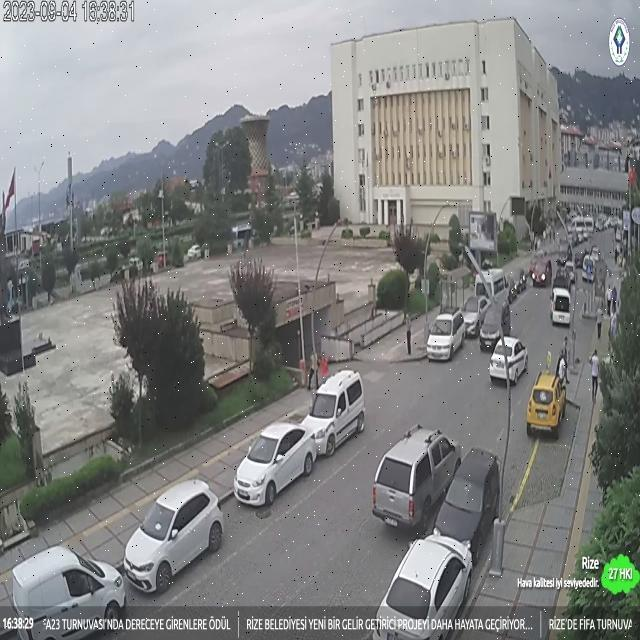Car: (373, 527, 480, 640), (128, 473, 231, 589), (422, 443, 512, 557), (368, 420, 465, 520), (238, 420, 313, 522), (520, 367, 566, 438), (414, 309, 466, 361), (485, 338, 527, 385), (481, 302, 512, 352), (458, 297, 490, 334), (528, 257, 553, 290)
Truck: (17, 540, 127, 640), (297, 365, 375, 457)
Van: (475, 268, 514, 310), (546, 288, 573, 330), (567, 214, 600, 240)
